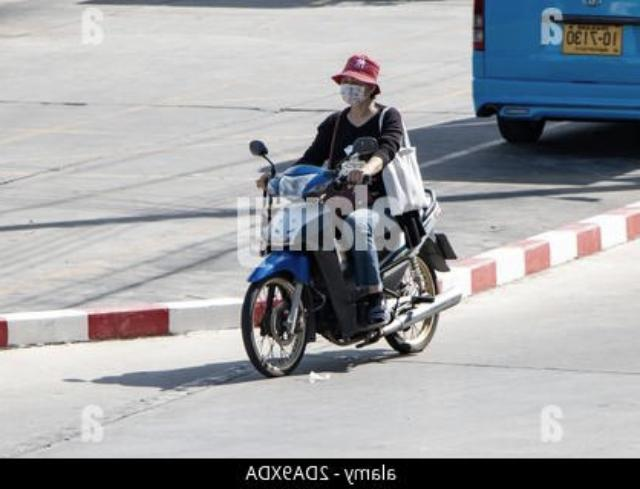motor: (243, 135, 450, 381)
non-helm: (334, 54, 382, 108)
